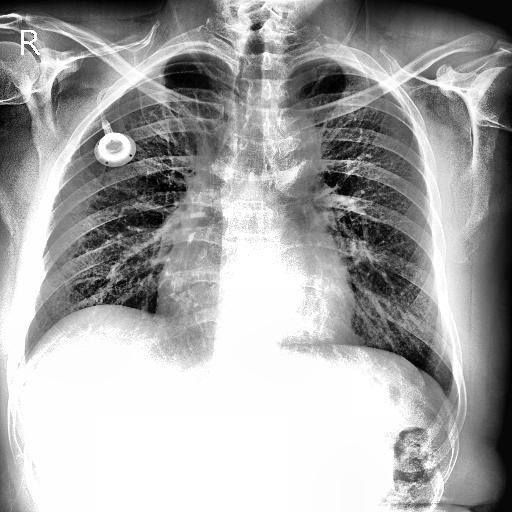0- Aortic enlargement: (229, 109, 317, 188), (238, 116, 317, 182), (265, 116, 319, 184)
